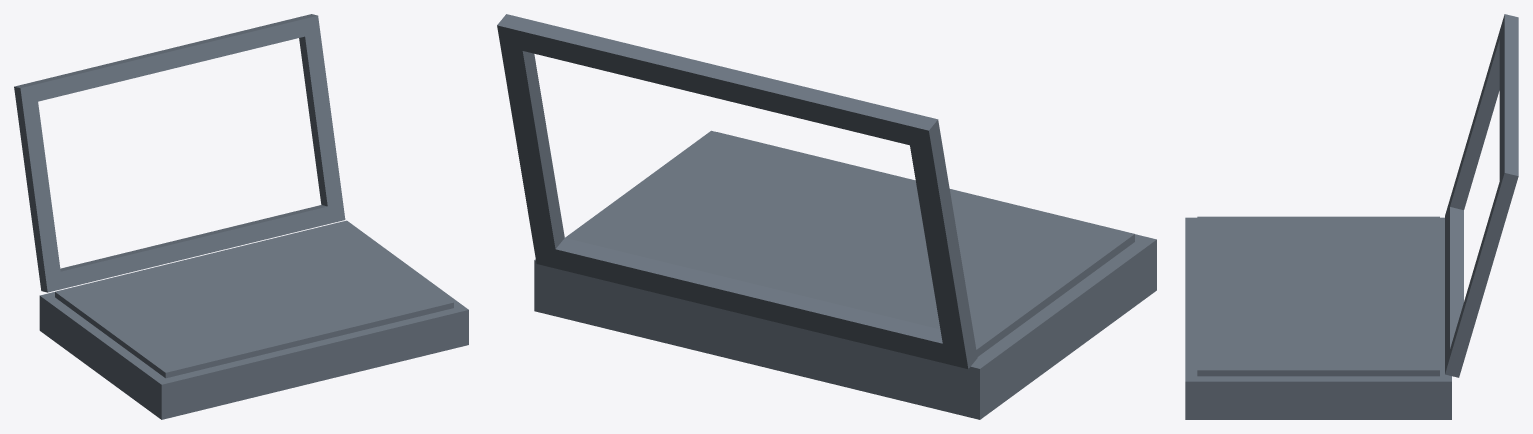
Rendered from case-sleek.glb.
The picture shows the model from 3 angles, left to right: view 1: azimuth 30°, elevation 25°; view 2: azimuth 150°, elevation 25°; view 3: azimuth 270°, elevation 25°; orthographic projection. The views are drawn at different scales.
Visible parts, largest first — view 1: geometry_1, geometry_0, geometry_2, geometry_3, geometry_4, geometry_5; view 2: geometry_1, geometry_0, geometry_2, geometry_3, geometry_4, geometry_5; view 3: geometry_1, geometry_0, geometry_2, geometry_5, geometry_4, geometry_3.
Part boxes in pixels (bbox=[...]): geometry_1: bbox=[55, 221, 453, 378]; geometry_0: bbox=[39, 220, 468, 419]; geometry_2: bbox=[14, 14, 320, 105]; geometry_3: bbox=[40, 203, 345, 292]; geometry_4: bbox=[14, 83, 62, 291]; geometry_5: bbox=[299, 14, 345, 221]; geometry_1: bbox=[571, 132, 1134, 356]; geometry_0: bbox=[534, 130, 1156, 419]; geometry_2: bbox=[497, 14, 940, 150]; geometry_3: bbox=[533, 238, 977, 369]; geometry_4: bbox=[907, 114, 977, 368]; geometry_5: bbox=[497, 14, 564, 262]; geometry_1: bbox=[1197, 216, 1439, 376]; geometry_0: bbox=[1185, 217, 1451, 419]; geometry_2: bbox=[1499, 14, 1518, 192]; geometry_5: bbox=[1445, 168, 1517, 376]; geometry_4: bbox=[1445, 14, 1518, 222]; geometry_3: bbox=[1445, 202, 1463, 377].
Bounding box in the file's own units: 0.32 × 0.2226 × 0.275.
